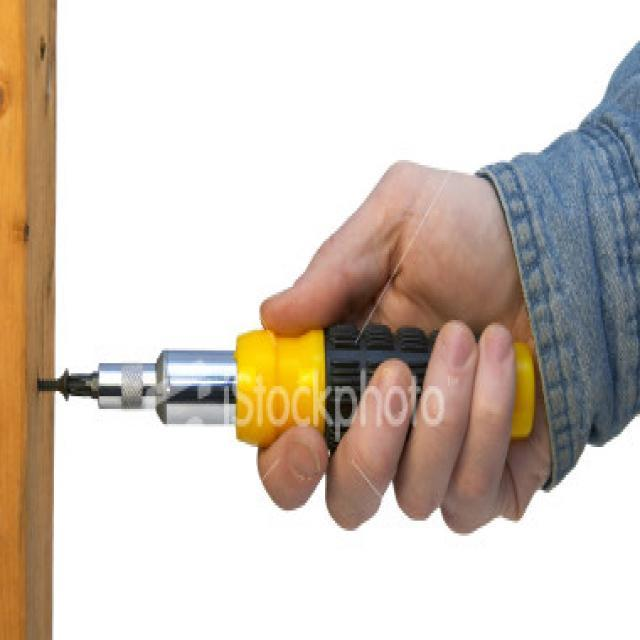screwdriver: (22, 317, 546, 468)
